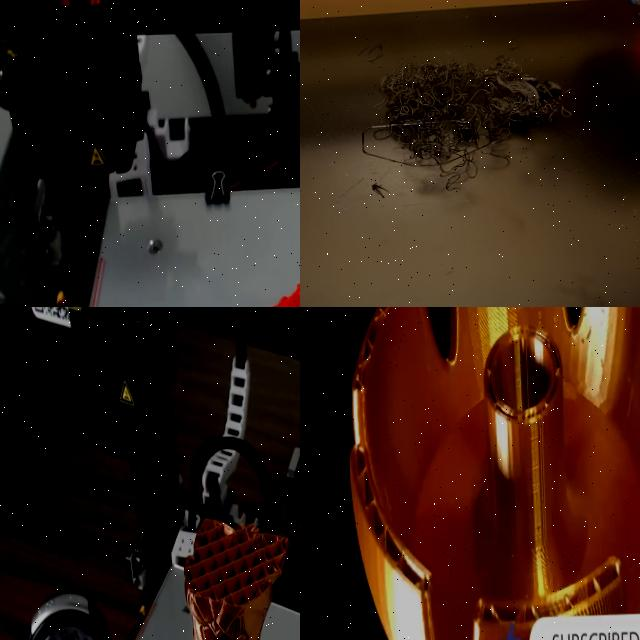spaghetti: (362, 60, 573, 194), (346, 38, 398, 73), (354, 179, 398, 205)
